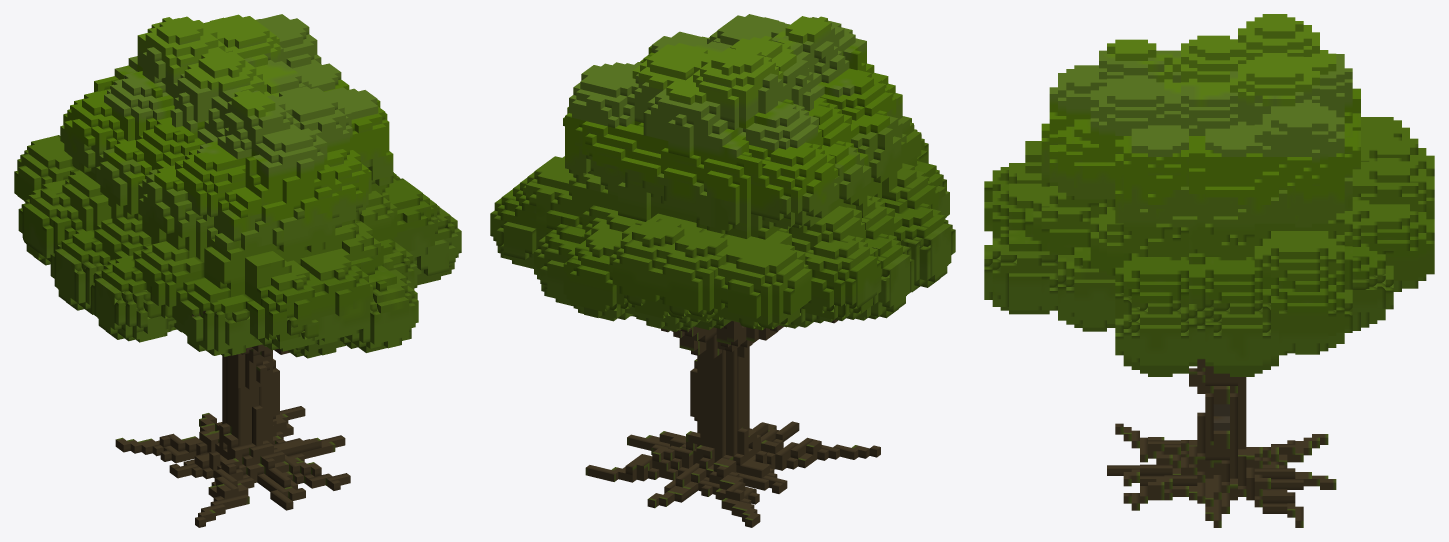
Rendered from oak_tree_summer.fbx.
The picture shows the model from 3 angles, left to right: view 1: azimuth 30°, elevation 25°; view 2: azimuth 150°, elevation 25°; view 3: azimuth 270°, elevation 25°; orthographic projection. The views are drawn at different scales.
Parts seen in each view (by area): view 1: oak_tree_summer; view 2: oak_tree_summer; view 3: oak_tree_summer.
Part boxes in pixels (x1=…): oak_tree_summer: x1=14, y1=14, x2=461, y2=527; oak_tree_summer: x1=490, y1=14, x2=955, y2=527; oak_tree_summer: x1=984, y1=14, x2=1434, y2=527.
Size of the model in its own units: 1040 by 1227 by 1144.
1 material, 1 textured.
